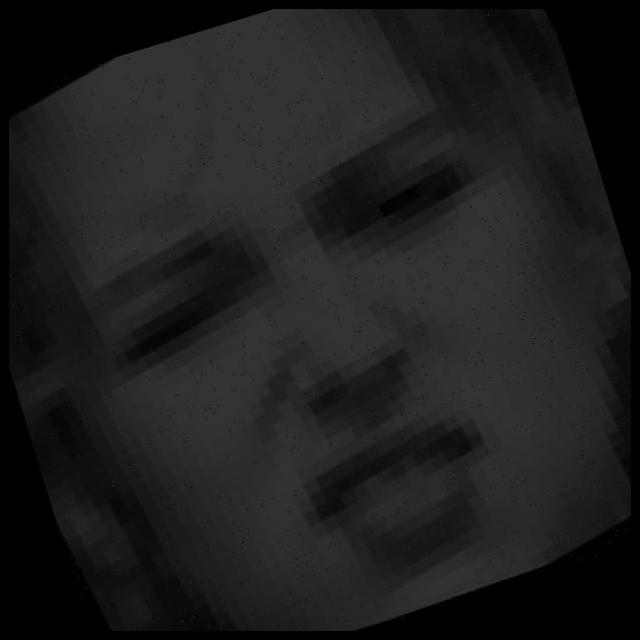Disgust: (54, 96, 547, 631)
